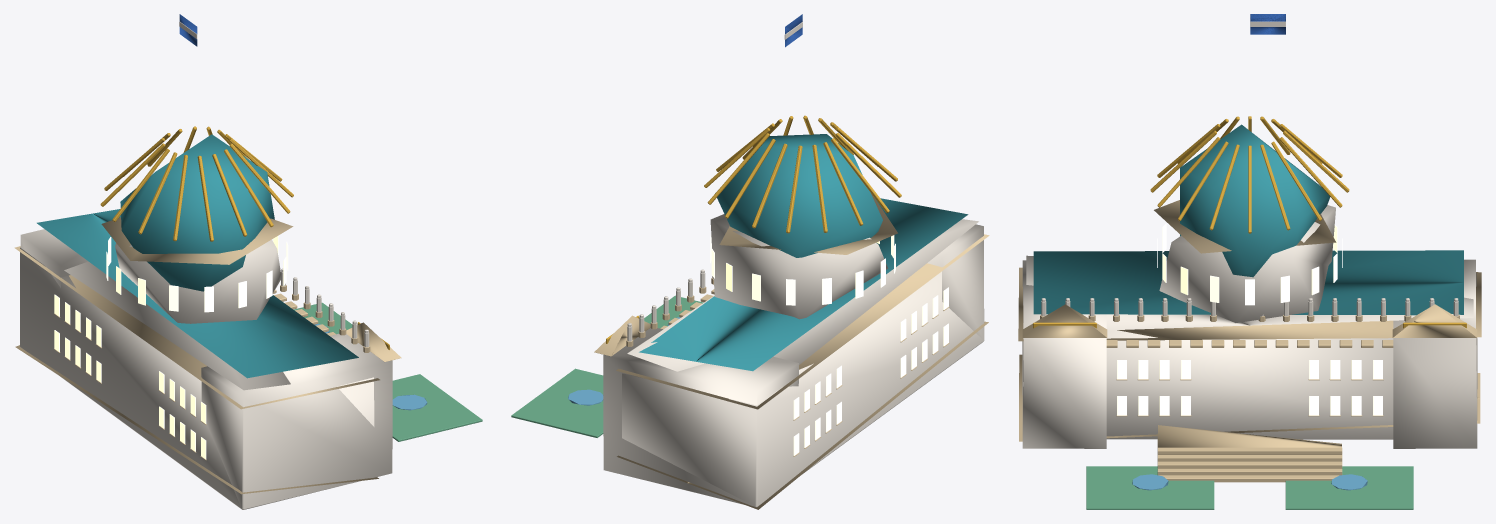
Rendered from parliament.glb.
3 views of the same model, side by side, from view 1: azimuth 30°, elevation 25°; view 2: azimuth 150°, elevation 25°; view 3: azimuth 270°, elevation 25° (orthographic). The views are drawn at different scales.
Parts seen in each view (by area): view 1: parliament; view 2: parliament; view 3: parliament.
Boxes of the visible parts, box(x1,y1,x2,y2) form: parliament: box(14, 14, 482, 509); parliament: box(511, 14, 989, 509); parliament: box(1018, 14, 1481, 509).
Size of the model in its own units: 47.98 by 61.1 by 65.12.
1 material, 1 textured.
